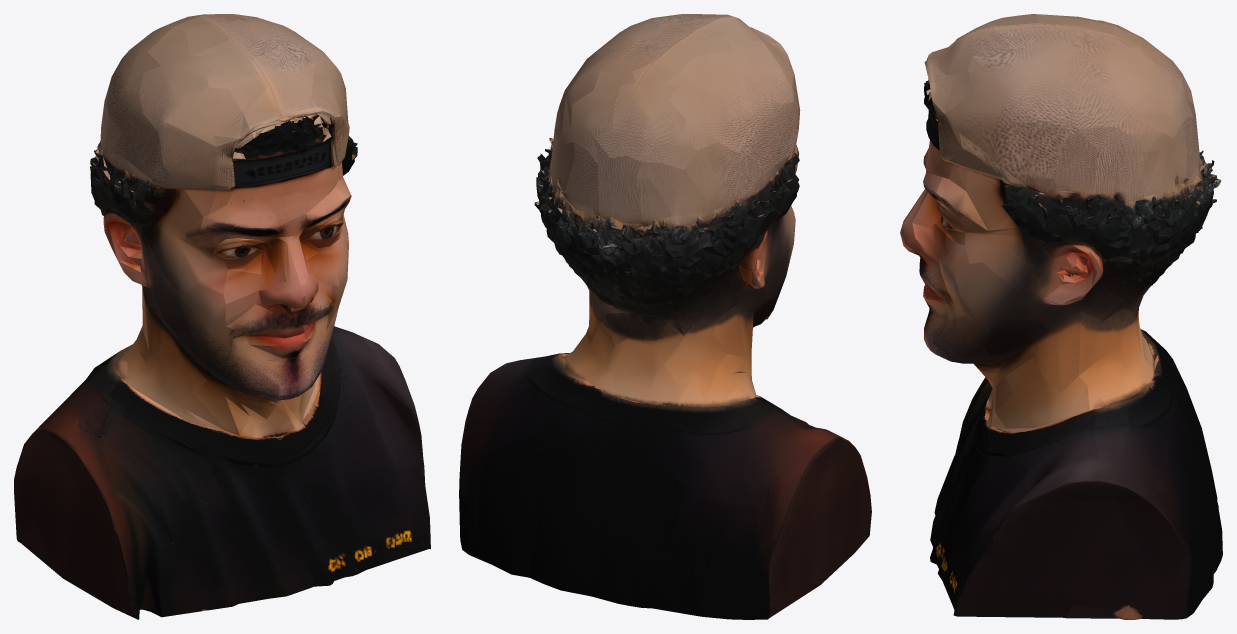
File: aymen.glb
3 renders of one model, left to right at view 1: azimuth 30°, elevation 25°; view 2: azimuth 150°, elevation 25°; view 3: azimuth 270°, elevation 25°, orthographic. The views are drawn at different scales.
Parts seen in each view (by area): view 1: LowPoly; view 2: LowPoly; view 3: LowPoly.
Part boxes in pixels (x1,y1,x2,y2): LowPoly: (14,14,430,619); LowPoly: (459,14,871,619); LowPoly: (900,14,1222,619).
Bounding box in the file's own units: 0.6472 × 0.9634 × 0.546.
Materials: 1 (1 with a texture image).
